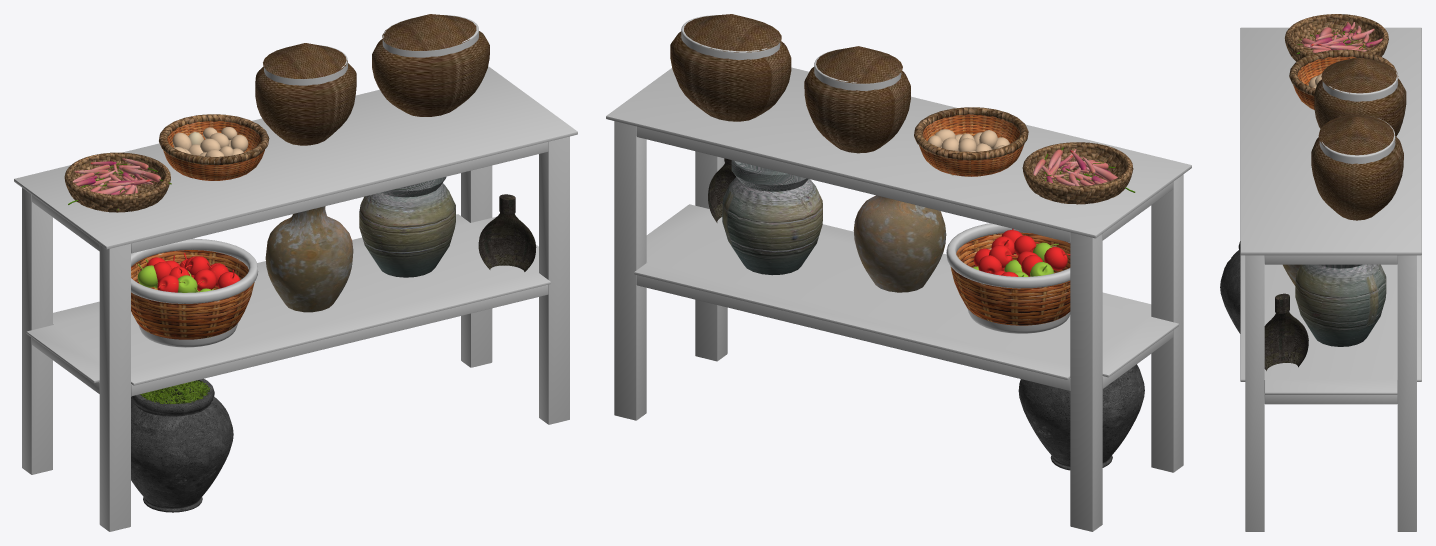
The picture shows the model from 3 angles, left to right: view 1: azimuth 30°, elevation 25°; view 2: azimuth 150°, elevation 25°; view 3: azimuth 270°, elevation 25°; orthographic projection. The views are drawn at different scales.
Visible parts, largest first — view 1: nongju_110, nongju_76, nongju_108, nongju_372.001, nongju_107, nongju_376, nongju_375, nongju_177, nongju_211.001, nongju_109, nongju_372, nongju_211; view 2: nongju_110, nongju_108, nongju_107, nongju_376, nongju_372.001, nongju_375, nongju_177, nongju_76, nongju_211.001, nongju_372, nongju_211, nongju_109; view 3: nongju_110, nongju_108, nongju_376, nongju_107, nongju_211.001, nongju_109, nongju_177, nongju_211, nongju_76.
Boxes of the visible parts, x1,y1,x2,y2 form: nongju_110: [14, 66, 577, 531]; nongju_76: [131, 378, 233, 512]; nongju_108: [372, 14, 489, 116]; nongju_372.001: [131, 238, 258, 347]; nongju_107: [255, 43, 356, 145]; nongju_376: [359, 177, 455, 277]; nongju_375: [265, 206, 353, 312]; nongju_177: [159, 114, 269, 180]; nongju_211.001: [64, 152, 170, 212]; nongju_109: [478, 194, 536, 271]; nongju_372: [137, 253, 240, 292]; nongju_211: [68, 158, 171, 211]; nongju_110: [606, 67, 1191, 531]; nongju_108: [670, 14, 791, 121]; nongju_107: [804, 46, 910, 153]; nongju_376: [722, 160, 822, 275]; nongju_372.001: [946, 223, 1070, 333]; nongju_375: [853, 195, 946, 292]; nongju_177: [914, 107, 1028, 176]; nongju_76: [1018, 364, 1144, 470]; nongju_211.001: [1022, 142, 1133, 204]; nongju_372: [973, 228, 1070, 276]; nongju_211: [1033, 147, 1135, 192]; nongju_109: [708, 158, 735, 222]; nongju_110: [1240, 27, 1421, 531]; nongju_108: [1311, 114, 1403, 220]; nongju_376: [1295, 264, 1386, 346]; nongju_107: [1314, 57, 1406, 136]; nongju_211.001: [1284, 14, 1388, 61]; nongju_109: [1264, 293, 1308, 370]; nongju_177: [1289, 49, 1396, 109]; nongju_211: [1296, 22, 1382, 54]; nongju_76: [1220, 241, 1240, 333].
Bounding box in the file's own units: 169 × 131 × 63.91.
